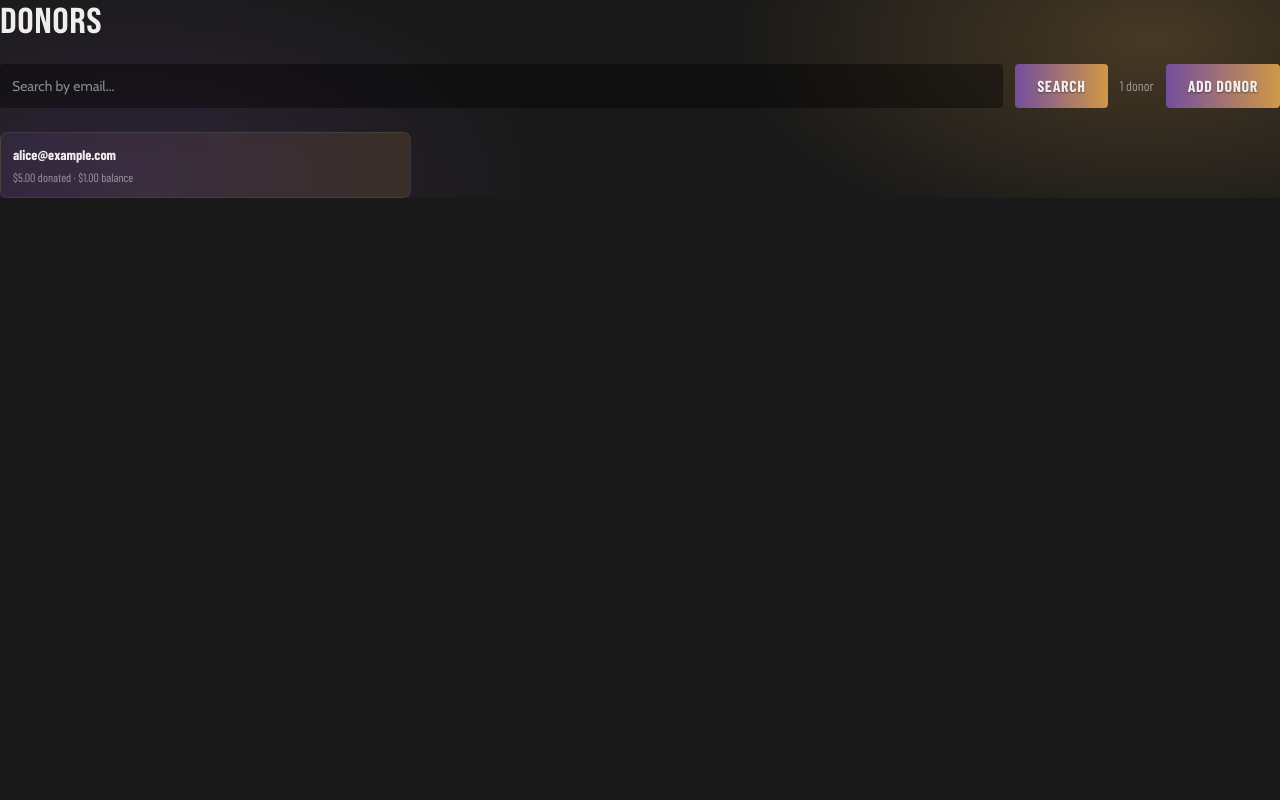
AdminDonors › shows a validation error when adjust-balance amount is zero
Click the text "alice@example.com": (64, 154) x1=13 y1=146 x2=116 y2=163
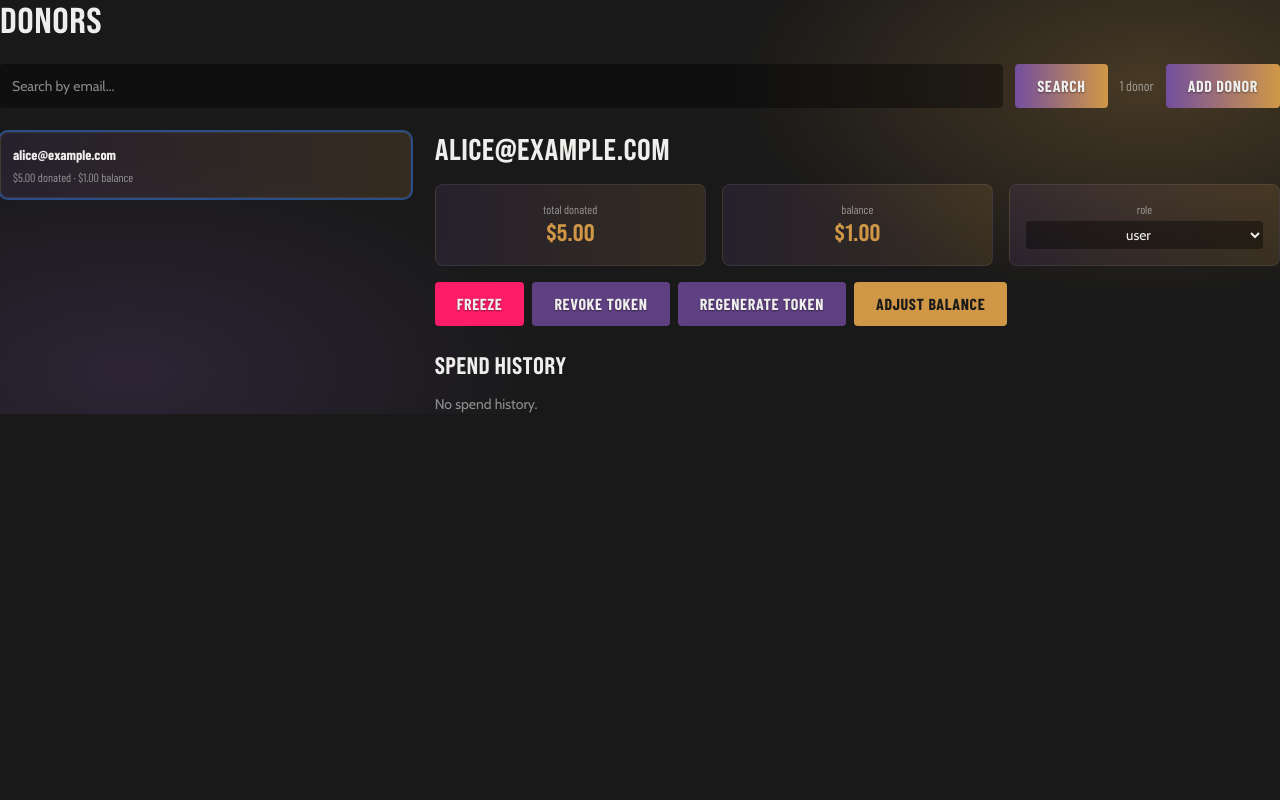
Click the button "adjust balance": (931, 304) x1=854 y1=282 x2=1007 y2=326
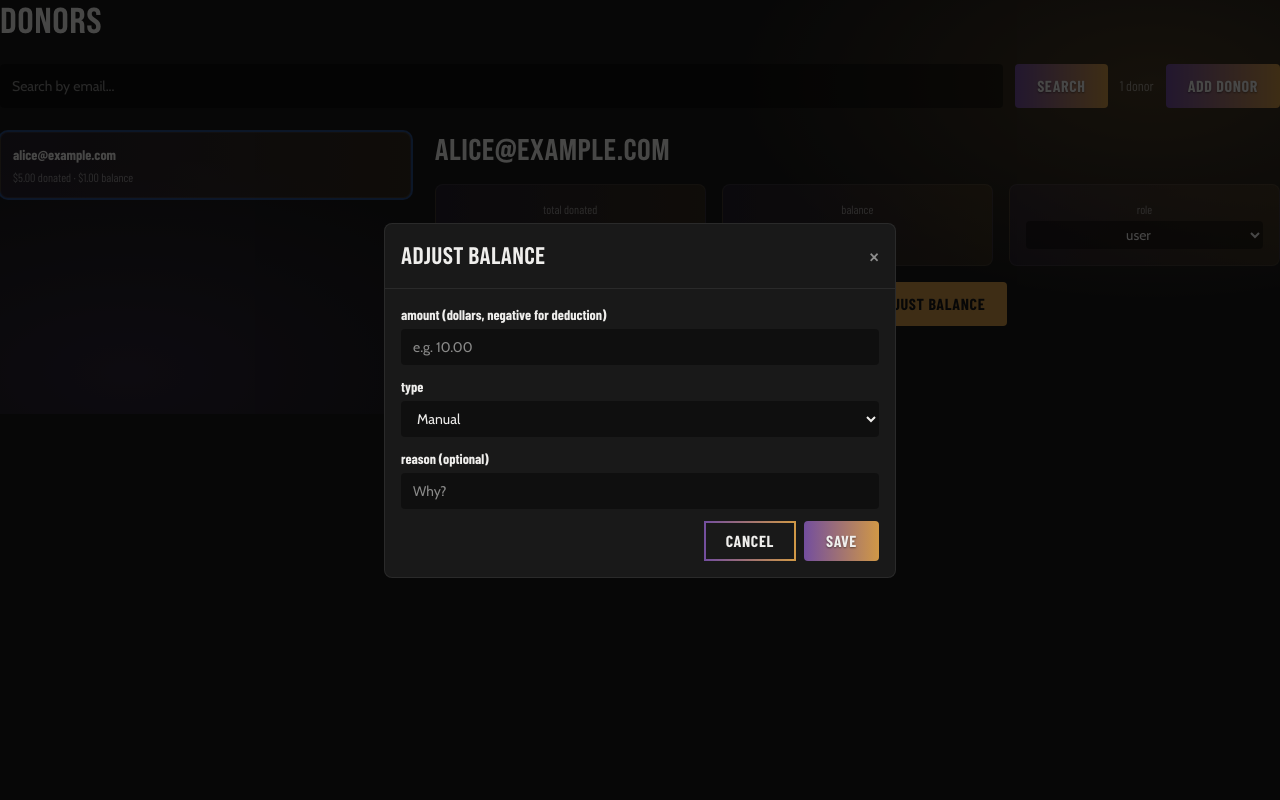
Click the button "save": (842, 540) x1=804 y1=520 x2=879 y2=560
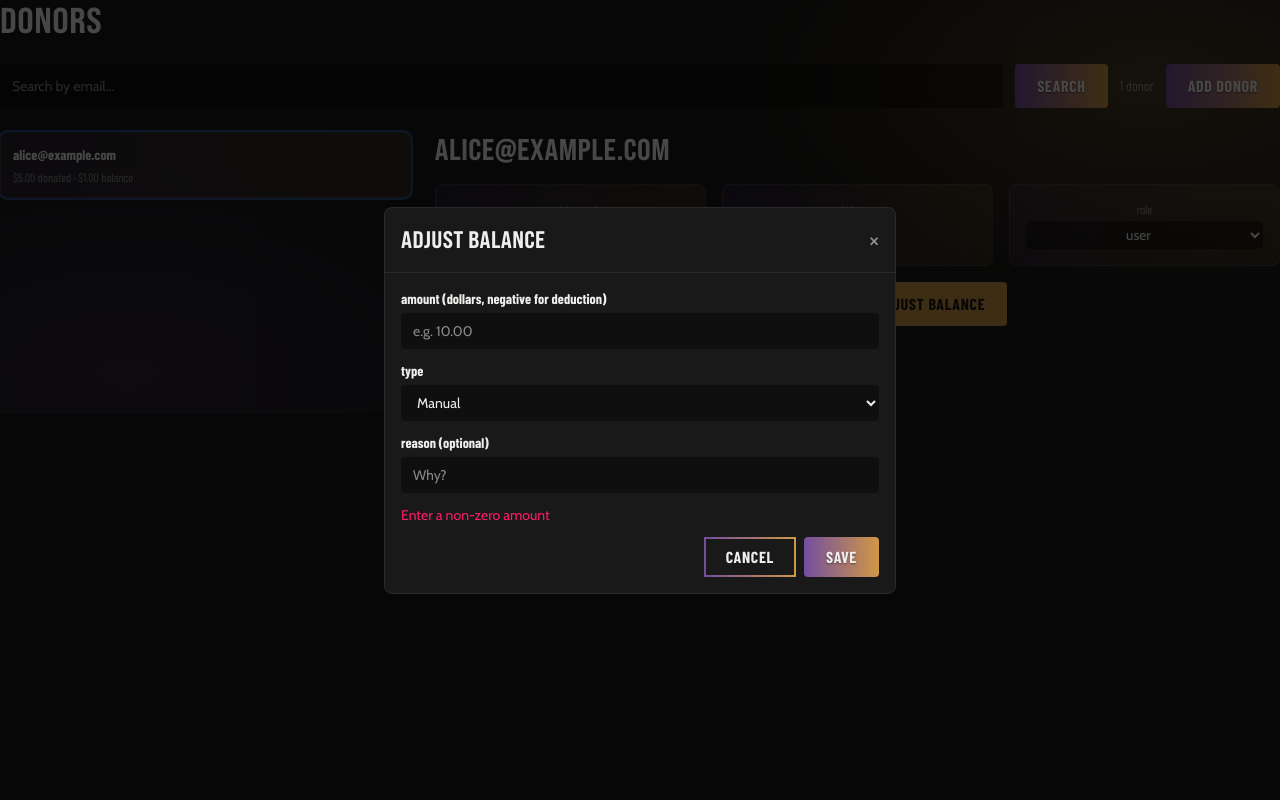
expect the text "Enter a non-zero amount" is shown: met, box x1=401 y1=506 x2=550 y2=524
